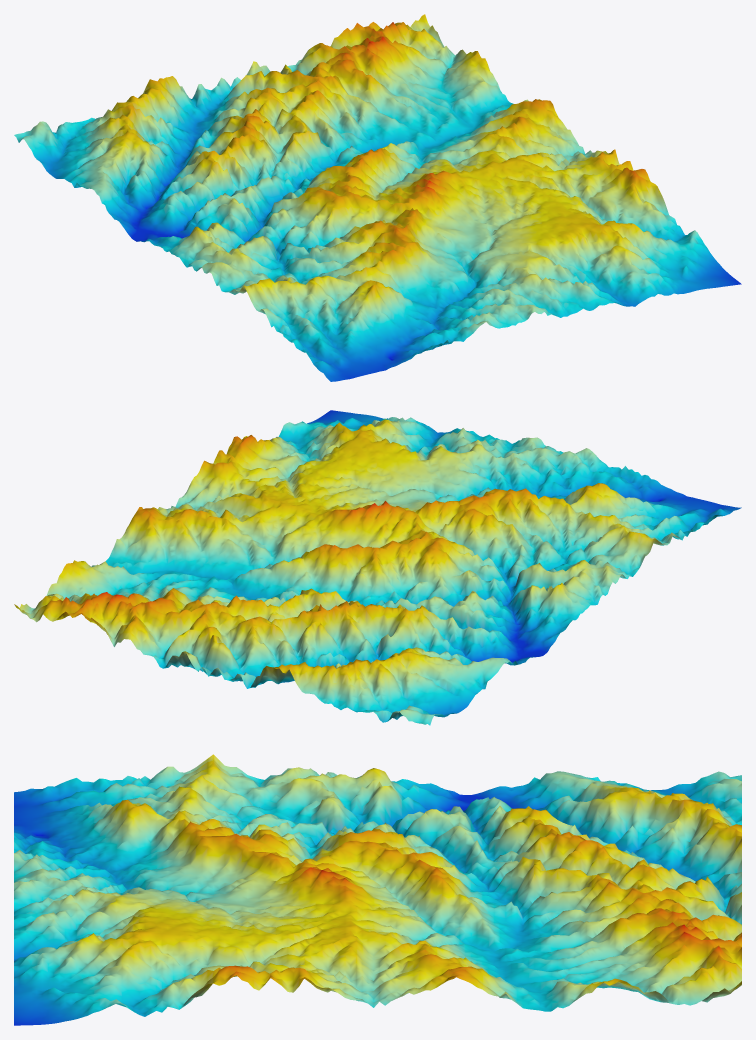
File: sample_low.glb
3 views of the same model, one above another, from view 1: azimuth 30°, elevation 25°; view 2: azimuth 150°, elevation 25°; view 3: azimuth 270°, elevation 25° (orthographic). The views are drawn at different scales.
Size of the model in its own units: 1114 by 127 by 1487.
